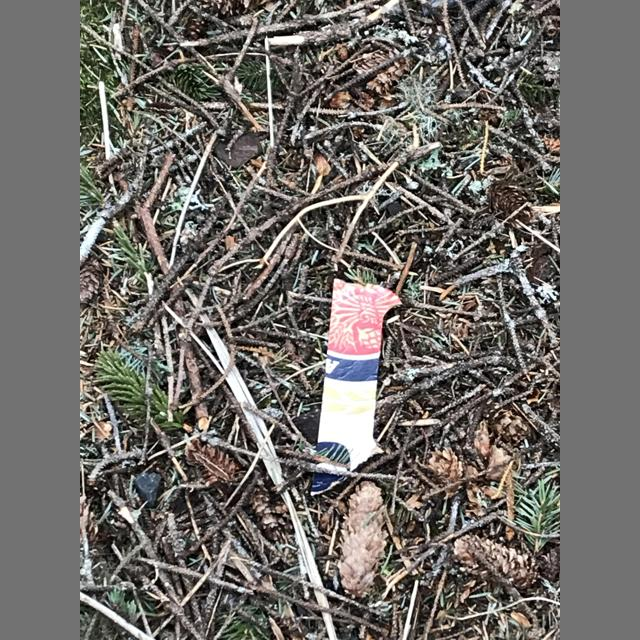litter: (310, 278, 403, 497)
